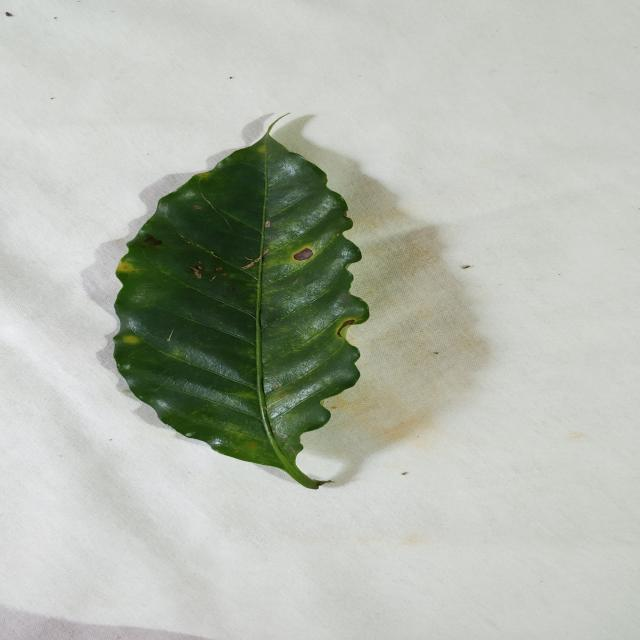Enfermedad-Roya: (112, 119, 370, 490)
